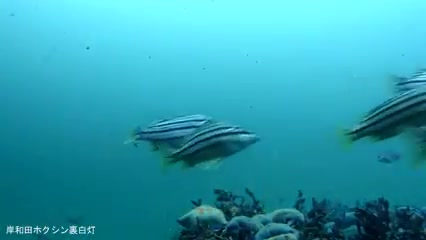bera: (347, 80, 426, 145), (166, 125, 259, 171)
